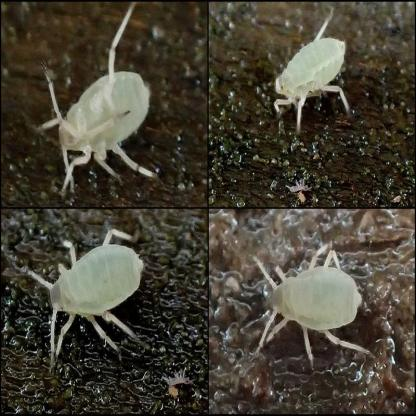aphid: (28, 10, 164, 183), (253, 252, 372, 375), (32, 233, 146, 360), (265, 8, 362, 130)
